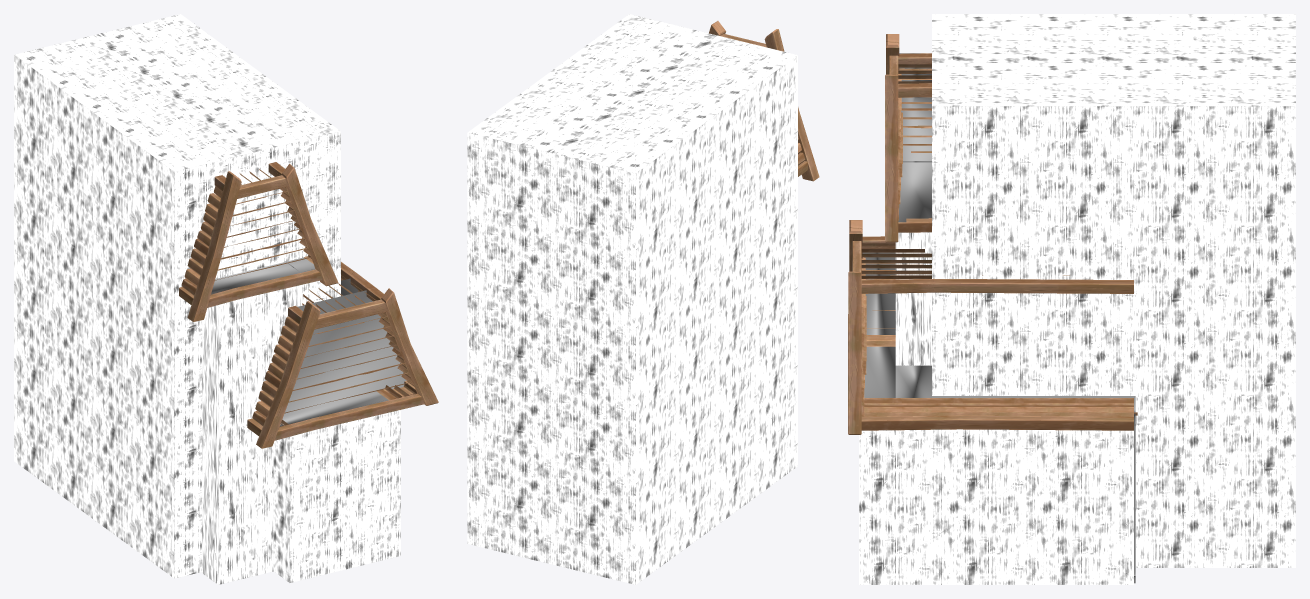
Rendered from SM_BuildingBase_08.gltf.
The picture shows the model from 3 angles, left to right: view 1: azimuth 30°, elevation 25°; view 2: azimuth 150°, elevation 25°; view 3: azimuth 270°, elevation 25°; orthographic projection. The views are drawn at different scales.
Visible parts, largest first — view 1: SM_BuildingBase_08_LOD0, SM_BuildingBase_08_ConvexHulls; view 2: SM_BuildingBase_08_LOD0; view 3: SM_BuildingBase_08_LOD0, SM_BuildingBase_08_ConvexHulls.
Part boxes in pixels (<box>): SM_BuildingBase_08_LOD0: <box>14,14,438,584</box>; SM_BuildingBase_08_ConvexHulls: <box>211,257,406,426</box>; SM_BuildingBase_08_LOD0: <box>467,14,819,584</box>; SM_BuildingBase_08_LOD0: <box>848,14,1295,584</box>; SM_BuildingBase_08_ConvexHulls: <box>862,53,1135,583</box>.
Size of what is drawn, in the model's own units: 8.24 by 14.11 by 12.3.
4 materials, 3 textured.
